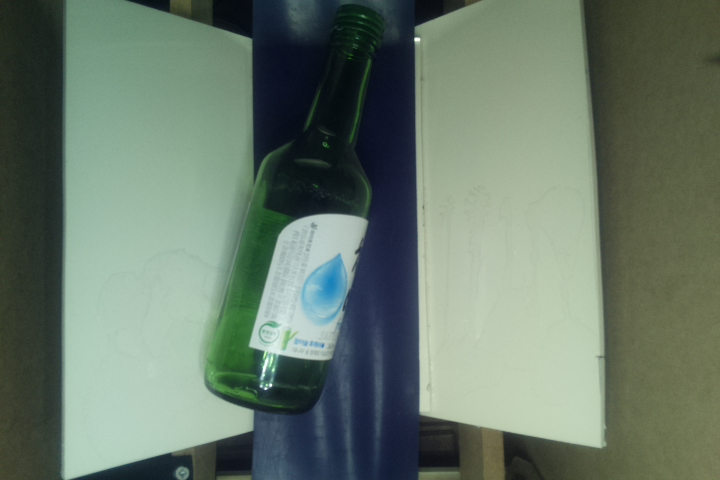soju: (199, 1, 392, 416)
